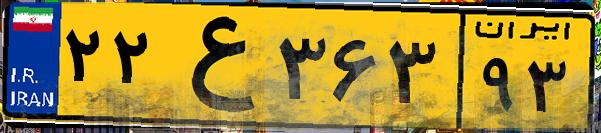2: (57, 26, 110, 100), (110, 28, 158, 98)
3: (270, 28, 330, 110), (385, 28, 445, 110), (525, 38, 570, 115)
6: (330, 28, 385, 110)
9: (475, 38, 525, 113)
ع: (158, 12, 270, 120)
